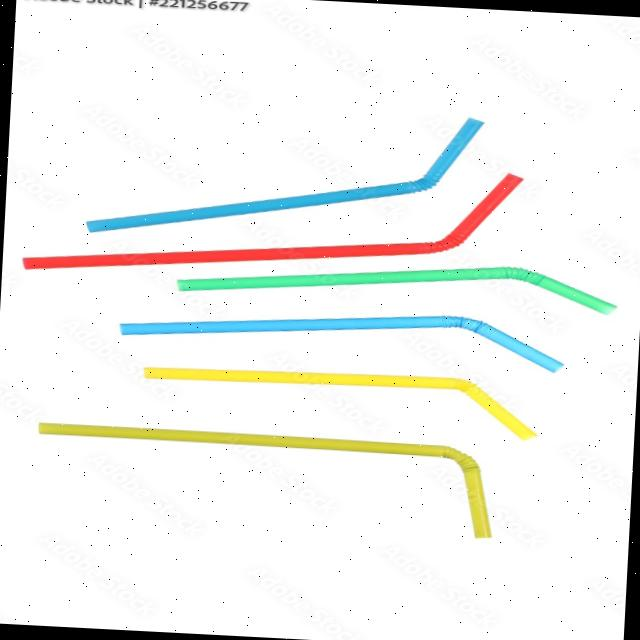plastic: (29, 408, 498, 550)
